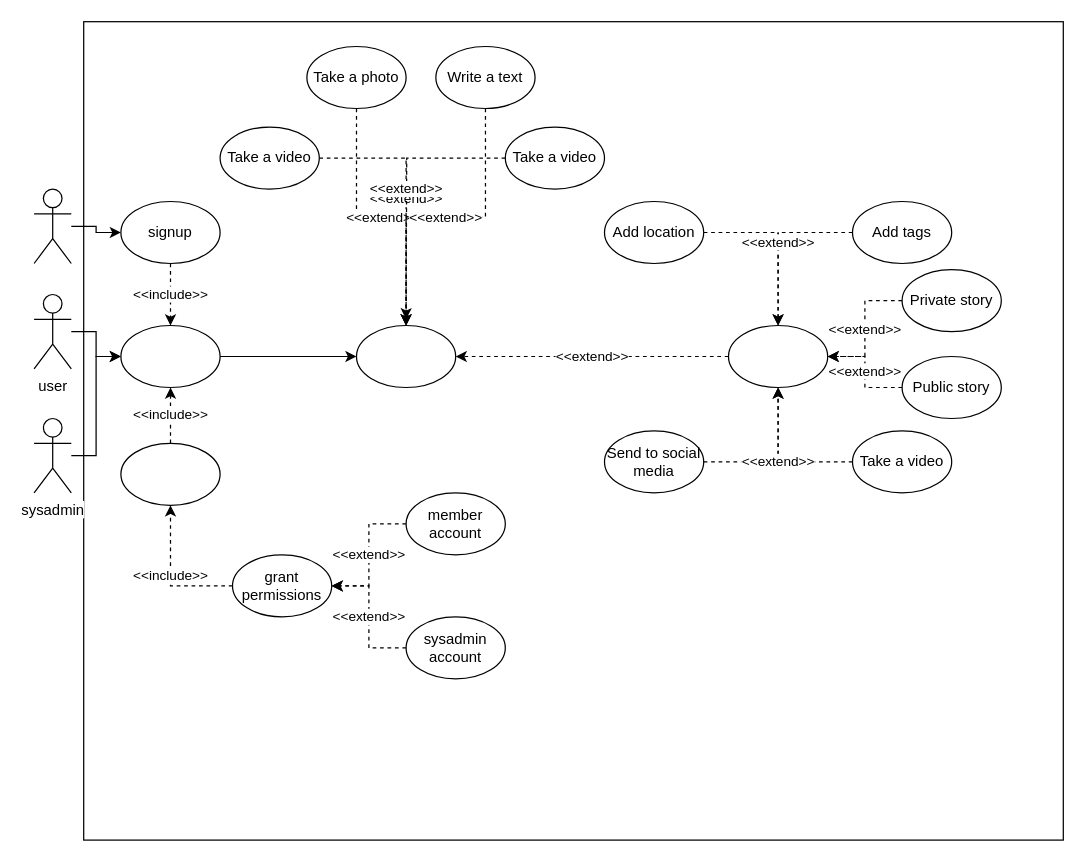
The diagram is 1085 pixels wide and 862 high, and some of its shapes have lost their labels. Each missing label, with the centre of its shape:
"authenticate account" belongs at point 170,473.
"Create story" belongs at point 405,356.
"guest" belongs at point 52,226.
"login" belongs at point 170,356.
"Post story" belongs at point 777,356.
